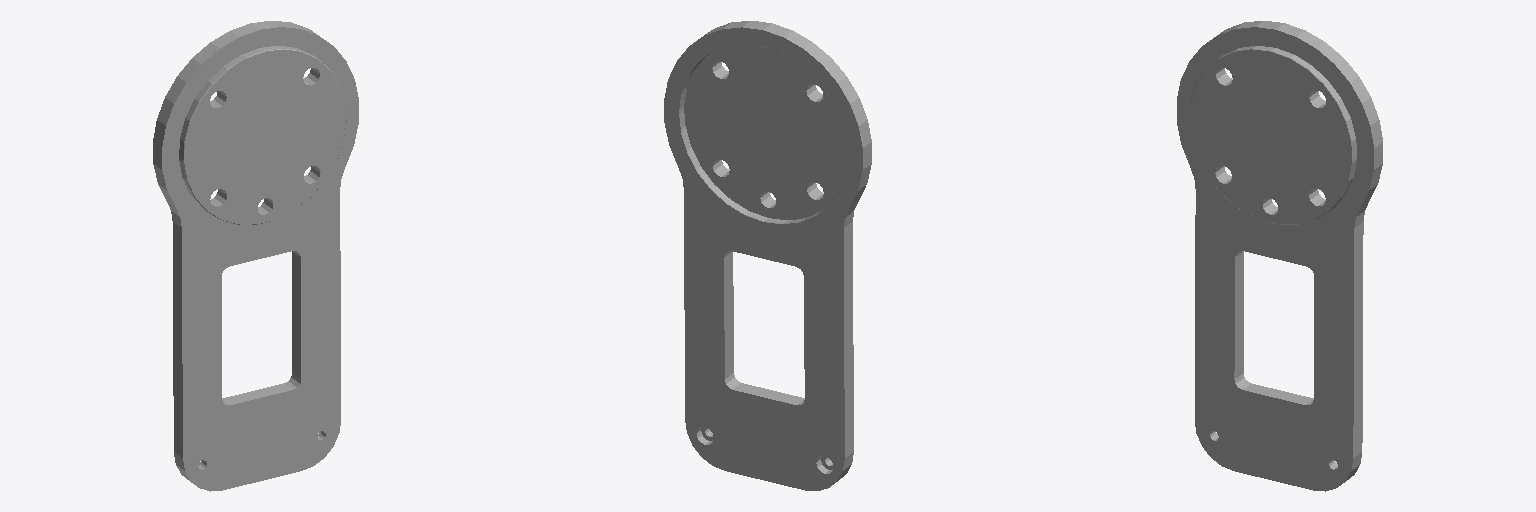
URDF robot description (summit_xl):
<?xml version='1.0' encoding='utf8'?>
<robot name="summit_xl">
    
  
    
  <link name="rg2_base_link">
    <inertial>
      <origin rpy="0 0 0.006" xyz="-0.00033928396113482284 0.0001550803374992693 0.06397335096404132"/>
      <mass value="0.7151802197889529"/>
      <inertia ixx="0.001268" ixy="0.0" ixz="-1.2e-05" iyy="0.001154" iyz="3e-06" izz="0.000357"/>
    </inertial>
    <visual>
      <origin rpy="0 0 0.006" xyz="0 0 0"/>
      <geometry>
        <mesh filename="meshes/rg2/base_link.stl" scale="0.001 0.001 0.001"/>
      </geometry>
      <material name="LightGrey">
        <color rgba="0.7 0.7 0.7 1.0"/>
      </material>
    </visual>
    <collision>
      <origin rpy="0 0 0.006" xyz="0 0 0"/>
      <geometry>
        <mesh filename="meshes/rg2/base_link.stl" scale="0.001 0.001 0.001"/>
      </geometry>
    </collision>
  </link>
  <joint name="rg6_gripper_joint" type="fixed">
    <origin xyz="0 0 0.006" rpy="0 0 1.5708" />
    <parent link="ur5_tool0"/>
    <child link="rg2_base_link" />
  </joint>

  <link name="left_outer_link_1">
    <inertial>
      <origin rpy="0 0 0" xyz="0.009999996523330909 0.0017814726549052681 0.012228209292930586"/>
      <mass value="0.03836739327168093"/>
      <inertia ixx="1.4e-05" ixy="0.0" ixz="0.0" iyy="1.4e-05" iyz="-0.0" izz="3e-06"/>
    </inertial>
    <visual>
      <origin rpy="0 0 0" xyz="0.0103 -0.01705 -0.12275"/>
      <geometry>
        <mesh filename="meshes/rg2/left_outer_link_1.stl" scale="0.001 0.001 0.001"/>
      </geometry>
      <material name="LightGrey">
        <color rgba="0.7 0.7 0.7 1.0"/>
      </material>
    </visual>
    <collision>
      <origin rpy="0 0 0" xyz="0.0103 -0.01705 -0.12275"/>
      <geometry>
        <mesh filename="meshes/rg2/left_outer_link_1.stl" scale="0.001 0.001 0.001"/>
      </geometry>
    </collision>
  </link>

  <link name="left_finger_link_1">
    <inertial>
      <origin rpy="0 0 0" xyz="0.010012780774690653 -0.010687647568749598 0.027402616106703998"/>
      <mass value="0.02483517715757534"/>
      <inertia ixx="7e-06" ixy="-0.0" ixz="0.0" iyy="6e-06" iyz="2e-06" izz="1e-06"/>
    </inertial>
    <visual>
      <origin rpy="0 0 0" xyz="0.0103 -0.01902 -0.177715"/>
      <geometry>
        <mesh filename="meshes/rg2/left_finger_link_1.stl" scale="0.001 0.001 0.001"/>
      </geometry>
      <material name="Black">
        <color rgba="0.0 0.0 0.0 1.0"/>
      </material>
    </visual>
    <collision>
      <origin rpy="0 0 0" xyz="0.0103 -0.01902 -0.177715"/>
      <geometry>
        <mesh filename="meshes/rg2/left_finger_link_1.stl" scale="0.001 0.001 0.001"/>
      </geometry>
    </collision>
  </link>

  <link name="left_inner_link_1">
    <inertial>
      <origin rpy="0 0 0" xyz="0.010005296596915006 -0.0016937268392717038 -0.03516232888579532"/>
      <mass value="0.012641568013611078"/>
      <inertia ixx="5e-06" ixy="0.0" ixz="-0.0" iyy="6e-06" iyz="-0.0" izz="1e-06"/>
    </inertial>
    <visual>
      <origin rpy="0 0 0" xyz="0.0103 -0.00952 -0.194215"/>
      <geometry>
        <mesh filename="meshes/rg2/left_inner_link_1.stl" scale="0.001 0.001 0.001"/>
      </geometry>
      <material name="Black">
        <color rgba="0.0 0.0 0.0 1.0"/>
      </material>
    </visual>
    <collision>
      <origin rpy="0 0 0" xyz="0.0103 -0.00952 -0.194215"/>
      <geometry>
        <mesh filename="meshes/rg2/left_inner_link_1.stl" scale="0.001 0.001 0.001"/>
      </geometry>
    </collision>
  </link>

  <link name="right_outer_link_1">
    <inertial>
      <origin rpy="0 0 0" xyz="0.010000003486636795 -0.0017814726548893677 0.012228209293019432"/>
      <mass value="0.03836739327185006"/>
      <inertia ixx="1.4e-05" ixy="0.0" ixz="-0.0" iyy="1.4e-05" iyz="0.0" izz="3e-06"/>
    </inertial>
    <visual>
      <origin rpy="0 0 0" xyz="0.0103 0.01695 -0.12275"/>
      <geometry>
        <mesh filename="meshes/rg2/right_outer_link_1.stl" scale="0.001 0.001 0.001"/>
      </geometry>
      <material name="LightGrey">
        <color rgba="0.7 0.7 0.7 1.0"/>
      </material>
    </visual>
    <collision>
      <origin rpy="0 0 0" xyz="0.0103 0.01695 -0.12275"/>
      <geometry>
        <mesh filename="meshes/rg2/right_outer_link_1.stl" scale="0.001 0.001 0.001"/>
      </geometry>
    </collision>
  </link>

  <link name="right_finger_link_1">
    <inertial>
      <origin rpy="0 0 0" xyz="0.009987219235276384 0.010687647568778226 0.02740261610670347"/>
      <mass value="0.02483517715757534"/>
      <inertia ixx="7e-06" ixy="-0.0" ixz="-0.0" iyy="6e-06" iyz="-2e-06" izz="1e-06"/>
    </inertial>
    <visual>
      <origin rpy="0 0 0" xyz="0.0103 0.01892 -0.177715"/>
      <geometry>
        <mesh filename="meshes/rg2/right_finger_link_1.stl" scale="0.001 0.001 0.001"/>
      </geometry>
      <material name="Black">
        <color rgba="0.0 0.0 0.0 1.0"/>
      </material>
    </visual>
    <collision>
      <origin rpy="0 0 0" xyz="0.0103 0.01892 -0.177715"/>
      <geometry>
        <mesh filename="meshes/rg2/right_finger_link_1.stl" scale="0.001 0.001 0.001"/>
      </geometry>
    </collision>
  </link>

  <link name="right_inner_link_1">
    <inertial>
      <origin rpy="0 0 0" xyz="0.00999470341305246 0.001693726839305438 -0.035162328885795485"/>
      <mass value="0.012641568013611078"/>
      <inertia ixx="5e-06" ixy="0.0" ixz="0.0" iyy="6e-06" iyz="0.0" izz="1e-06"/>
    </inertial>
    <visual>
      <origin rpy="0 0 0" xyz="0.0103 0.00942 -0.194215"/>
      <geometry>
        <mesh filename="meshes/rg2/right_inner_link_1.stl" scale="0.001 0.001 0.001"/>
      </geometry>
      <material name="Black">
        <color rgba="0.0 0.0 0.0 1.0"/>
      </material>
    </visual>
    <collision>
      <origin rpy="0 0 0" xyz="0.0103 0.00942 -0.194215"/>
      <geometry>
        <mesh filename="meshes/rg2/right_inner_link_1.stl" scale="0.001 0.001 0.001"/>
      </geometry>
    </collision>
  </link>


  <joint name="Rev33" type="continuous">
    <origin rpy="0 0 0" xyz="-0.0103 0.01705 0.12275"/>
    <parent link="rg2_base_link"/>
    <child link="left_outer_link_1"/>
    <axis xyz="1.0 0.0 0.0"/>
    <mimic joint="Rev28" multiplier="-1.0" offset="0"/>
  </joint>

  <joint name="Rev29" type="continuous">
    <origin rpy="0 0 0" xyz="0.0 0.00197 0.054965"/>
    <parent link="left_outer_link_1"/>
    <child link="left_finger_link_1"/>
    <axis xyz="-1.0 -0.0 -0.0"/>
    <mimic joint="Rev28" multiplier="-1.0" offset="0"/>
  </joint>

  <joint name="Rev30" type="continuous">
    <origin rpy="0 0 0" xyz="0.0 -0.0095 0.0165"/>
    <parent link="left_finger_link_1"/>
    <child link="left_inner_link_1"/>
    <axis xyz="-1.0 -0.0 -0.0"/>
    <mimic joint="Rev28" multiplier="1.0" offset="0"/>
  </joint>

  <joint name="Rev28" type="revolute">
    <origin rpy="0 0 0" xyz="-0.0103 -0.01695 0.12275"/>
    <parent link="rg2_base_link"/>
    <child link="right_outer_link_1"/>
    <axis xyz="1.0 0.0 0.0"/>
    <limit effort="100" lower="0.0" upper="1.343904" velocity="100"/>
  </joint>

  <joint name="Rev34" type="continuous">
    <origin rpy="0 0 0" xyz="0.0 -0.00197 0.054965"/>
    <parent link="right_outer_link_1"/>
    <child link="right_finger_link_1"/>
    <axis xyz="-1.0 -0.0 -0.0"/>
    <mimic joint="Rev28" multiplier="1.0" offset="0"/>
  </joint>

  <joint name="Rev35" type="continuous">
    <origin rpy="0 0 0" xyz="0.0 0.0095 0.0165"/>
    <parent link="right_finger_link_1"/>
    <child link="right_inner_link_1"/>
    <axis xyz="-1.0 0.0 -0.0"/>
    <mimic joint="Rev28" multiplier="-1.0" offset="0"/>
  </joint>


  <joint name="camera_joint" type="fixed">
    <origin rpy="1.5708 -1.5708 0" xyz="0 -0.102 0.014" />
    <parent link="camera_bracket" />
    <child link="camera_bottom_screw_frame" />
  </joint>
  <link name="camera_bottom_screw_frame" />
  <joint name="camera_link_joint" type="fixed">
    <origin rpy="0 0 0" xyz="0.0106 0.0175 0.0125" />
    <parent link="camera_bottom_screw_frame" />
    <child link="camera_link" />
  </joint>
  <link name="camera_link">
    <visual>
      <origin rpy="1.57079632679 0 1.57079632679" xyz="0.0043 -0.0175 0" />
      <geometry>
        <mesh filename="meshes/include/d435.dae" />
      </geometry>
      <material name="LightGrey">
        <color rgba="0.7 0.7 0.7 1.0"/>
      </material>
    </visual>
    <collision>
      <origin rpy="1.57079632679 0 1.57079632679" xyz="0.0043 -0.0175 0" />
      <geometry>
        <mesh filename="meshes/include/d435.dae" />
      </geometry>
    </collision>
    <inertial>
      <mass value="0.564" />
      <origin xyz="0 0 0" />
      <inertia ixx="0.003881243" ixy="0.0" ixz="0.0" iyy="0.000498940" iyz="0.0" izz="0.003879257" />
    </inertial>
  </link>
  
  
  
  <joint name="camera_depth_joint" type="fixed">
    <origin rpy="0 0 0" xyz="0 0 0" />
    <parent link="camera_link" />
    <child link="camera_depth_frame" />
  </joint>
  <link name="camera_depth_frame" />
  <joint name="camera_depth_optical_joint" type="fixed">
    <origin rpy="-1.57079632679 0 -1.57079632679" xyz="0 0 0" />
    <parent link="camera_depth_frame" />
    <child link="camera_depth_optical_frame" />
  </joint>
  <link name="camera_depth_optical_frame" />
  
  <joint name="camera_infra1_joint" type="fixed">
    <origin rpy="0 0 0" xyz="0 0.0 0" />
    <parent link="camera_link" />
    <child link="camera_infra1_frame" />
  </joint>
  <link name="camera_infra1_frame" />
  <joint name="camera_infra1_optical_joint" type="fixed">
    <origin rpy="-1.57079632679 0 -1.57079632679" xyz="0 0 0" />
    <parent link="camera_infra1_frame" />
    <child link="camera_infra1_optical_frame" />
  </joint>
  <link name="camera_infra1_optical_frame" />
  
  <joint name="camera_infra2_joint" type="fixed">
    <origin rpy="0 0 0" xyz="0 -0.05 0" />
    <parent link="camera_link" />
    <child link="camera_infra2_frame" />
  </joint>
  <link name="camera_infra2_frame" />
  <joint name="camera_infra2_optical_joint" type="fixed">
    <origin rpy="-1.57079632679 0 -1.57079632679" xyz="0 0 0" />
    <parent link="camera_infra2_frame" />
    <child link="camera_infra2_optical_frame" />
  </joint>
  <link name="camera_infra2_optical_frame" />
  
  <joint name="camera_color_joint" type="fixed">
    <origin rpy="0 0 0" xyz="0 0.015 0" />
    <parent link="camera_link" />
    <child link="camera_color_frame" />
  </joint>
  <link name="camera_color_frame" />
  <joint name="camera_color_optical_joint" type="fixed">
    <origin rpy="-1.57079632679 0 -1.57079632679" xyz="0 0 0" />
    <parent link="camera_color_frame" />
    <child link="camera_color_optical_frame" />
  </joint>
  <link name="camera_color_optical_frame" />
  
  
  
  
  <link name="ur5_base_link">
    <visual>
      <origin rpy="0 0 3.14159265359" xyz="0 0 0" />
      <geometry>
        <mesh filename="meshes/ur5/visual/base.dae" />
      </geometry>
      <material name="LightGrey">
        <color rgba="0.7 0.7 0.7 1.0" />
      </material>
    </visual>
    <collision>
      <origin rpy="0 0 3.14159265359" xyz="0 0 0" />
      <geometry>
        <mesh filename="meshes/ur5/collision/base.stl" />
      </geometry>
    </collision>
    <inertial>
      <mass value="4.0" />
      <origin rpy="0 0 0" xyz="0.0 0.0 0.0" />
      <inertia ixx="0.00443333156" ixy="0.0" ixz="0.0" iyy="0.00443333156" iyz="0.0" izz="0.0072" />
    </inertial>
  </link>
  <joint name="ur5_shoulder_pan_joint" type="revolute">
    <parent link="ur5_base_link" />
    <child link="ur5_shoulder_link" />
    <origin rpy="0 0 3.14161541291" xyz="0 0 0.0891466430647" />
    <axis xyz="0 0 1" />
    <limit effort="150.0" lower="-6.28318530718" upper="6.28318530718" velocity="3.15" />
    <dynamics damping="0.0" friction="0.0" />
  </joint>
  <link name="ur5_shoulder_link">
    <visual>
      <origin rpy="0 0 3.14159265359" xyz="0 0 0" />
      <geometry>
        <mesh filename="meshes/ur5/visual/shoulder.dae" />
      </geometry>
      <material name="UR-Blue">
        <color rgba="0.376 0.576 0.674 1.0"/>
      </material>
    </visual>
    <collision>
      <origin rpy="0 0 3.14159265359" xyz="0 0 0" />
      <geometry>
        <mesh filename="meshes/ur5/collision/shoulder.stl" />
      </geometry>
    </collision>
    <inertial>
      <mass value="3.7" />
      <origin rpy="0 0 0" xyz="0.0 0.0 0.0" />
      <inertia ixx="0.0149723523444" ixy="0.0" ixz="0.0" iyy="0.0149723523444" iyz="0.0" izz="0.01040625" />
    </inertial>
  </link>
  <joint name="ur5_shoulder_lift_joint" type="revolute">
    <parent link="ur5_shoulder_link" />
    <child link="ur5_upper_arm_link" />
    <origin rpy="1.57029006034 0 6.28004107998e-05" xyz="0.000146634111712 0 0" />
    <axis xyz="0 0 1" />
    <limit effort="150.0" lower="-6.28318530718" upper="6.28318530718" velocity="3.15" />
    <dynamics damping="0.0" friction="0.0" />
  </joint>
  <link name="ur5_upper_arm_link">
    <visual>
      <origin rpy="1.57079632679 0 -1.57079632679" xyz="0 0 0.136" />
      <geometry>
        <mesh filename="meshes/ur5/visual/upperarm.dae" />
      </geometry>
      <material name="LightGrey">
        <color rgba="0.7 0.7 0.7 1.0" />
      </material>
    </visual>
    <collision>
      <origin rpy="1.57079632679 0 -1.57079632679" xyz="0 0 0.136" />
      <geometry>
        <mesh filename="meshes/ur5/collision/upperarm.stl" />
      </geometry>
    </collision>
    <inertial>
      <mass value="8.393" />
      <origin rpy="0 1.57079632679 0" xyz="-0.212595837271 0.0 0.136" />
      <inertia ixx="0.133999758827" ixy="0.0" ixz="0.0" iyy="0.133999758827" iyz="0.0" izz="0.0151074" />
    </inertial>
  </link>
  <joint name="ur5_elbow_joint" type="revolute">
    <parent link="ur5_upper_arm_link" />
    <child link="ur5_forearm_link" />
    <origin rpy="0.000309149033959 0.00195055847639 4.0824780764e-06" xyz="-0.425191674542 0 0" />
    <axis xyz="0 0 1" />
    <limit effort="150.0" lower="-3.14159265359" upper="3.14159265359" velocity="3.15" />
    <dynamics damping="0.0" friction="0.0" />
  </joint>
  <link name="ur5_forearm_link">
    <visual>
      <origin rpy="1.57079632679 0 -1.57079632679" xyz="0 0 0.0165" />
      <geometry>
        <mesh filename="meshes/ur5/visual/forearm.dae" />
      </geometry>
      <material name="LightGrey">
        <color rgba="0.7 0.7 0.7 1.0" />
      </material>
    </visual>
    <collision>
      <origin rpy="1.57079632679 0 -1.57079632679" xyz="0 0 0.0165" />
      <geometry>
        <mesh filename="meshes/ur5/collision/forearm.stl" />
      </geometry>
    </collision>
    <inertial>
      <mass value="2.275" />
      <origin rpy="0 1.57079632679 0" xyz="-0.212595837271 0.0 0.0165" />
      <inertia ixx="0.031152672327" ixy="0.0" ixz="0.0" iyy="0.031152672327" iyz="0.0" izz="0.004095" />
    </inertial>
  </link>
  <joint name="ur5_wrist_1_joint" type="revolute">
    <parent link="ur5_forearm_link" />
    <child link="ur5_wrist_1_link" />
    <origin rpy="0.00946036710336 0.000178832082866 8.30825091703e-06" xyz="-0.391818649157 -0.00104589148922 0.110551765664" />
    <axis xyz="0 0 1" />
    <limit effort="28.0" lower="-6.28318530718" upper="6.28318530718" velocity="3.2" />
    <dynamics damping="0.0" friction="0.0" />
  </joint>
  <link name="ur5_wrist_1_link">
    <visual>
      <origin rpy="1.57079632679 0 0" xyz="0 0 -0.093" />
      <geometry>
        <mesh filename="meshes/ur5/visual/wrist1.dae" />
      </geometry>
      <material name="UR-Blue">
        <color rgba="0.376 0.576 0.674 1.0"/>
      </material>
    </visual>
    <collision>
      <origin rpy="1.57079632679 0 0" xyz="0 0 -0.093" />
      <geometry>
        <mesh filename="meshes/ur5/collision/wrist1.stl" />
      </geometry>
    </collision>
    <inertial>
      <mass value="1.219" />
      <origin rpy="0 0 0" xyz="0.0 0.0 0.0" />
      <inertia ixx="0.00262465340213" ixy="0.0" ixz="0.0" iyy="0.00262465340213" iyz="0.0" izz="0.0034284375" />
    </inertial>
  </link>
  <joint name="ur5_wrist_2_joint" type="revolute">
    <parent link="ur5_wrist_1_link" />
    <child link="ur5_wrist_2_link" />
    <origin rpy="1.56994050176 0 -5.70603441434e-05" xyz="-9.99516732222e-06 -0.0946702251887 8.10211688195e-05" />
    <axis xyz="0 0 1" />
    <limit effort="28.0" lower="-6.28318530718" upper="6.28318530718" velocity="3.2" />
    <dynamics damping="0.0" friction="0.0" />
  </joint>
  <link name="ur5_wrist_2_link">
    <visual>
      <origin rpy="0 0 0" xyz="0 0 -0.095" />
      <geometry>
        <mesh filename="meshes/ur5/visual/wrist2.dae" />
      </geometry>
      <material name="DarkGray">
        <color rgba="0.5 0.5 0.5 1.0"/>
      </material>
    </visual>
    <collision>
      <origin rpy="0 0 0" xyz="0 0 -0.095" />
      <geometry>
        <mesh filename="meshes/ur5/collision/wrist2.stl" />
      </geometry>
    </collision>
    <inertial>
      <mass value="1.219" />
      <origin rpy="0 0 0" xyz="0.0 0.0 0.0" />
      <inertia ixx="0.00178798457695" ixy="0.0" ixz="0.0" iyy="0.00178798457695" iyz="0.0" izz="0.0021942" />
    </inertial>
  </link>
  <joint name="ur5_wrist_3_joint" type="revolute">
    <parent link="ur5_wrist_2_link" />
    <child link="ur5_wrist_3_link" />
    <origin rpy="1.57124983379 3.14159265359 3.14154158585" xyz="6.79436941657e-05 0.0824691928246 3.74003585712e-05" />
    <axis xyz="0 0 1" />
    <limit effort="28.0" lower="-6.28318530718" upper="6.28318530718" velocity="3.2" />
    <dynamics damping="0.0" friction="0.0" />
  </joint>
  <link name="ur5_wrist_3_link">
    <visual>
      <origin rpy="1.57079632679 0 0" xyz="0 0 -0.0818" />
      <geometry>
        <mesh filename="meshes/ur5/visual/wrist3.dae" />
      </geometry>
      <material name="LightGrey">
        <color rgba="0.7 0.7 0.7 1.0" />
      </material>
    </visual>
    <collision>
      <origin rpy="1.57079632679 0 0" xyz="0 0 -0.0823" />
      <geometry>
        <mesh filename="meshes/ur5/collision/wrist3.stl" />
      </geometry>
    </collision>
    <inertial>
      <mass value="0.1879" />
      <origin rpy="0 0 0" xyz="0.0 0.0 -0.01525" />
      <inertia ixx="8.06247260834e-05" ixy="0.0" ixz="0.0" iyy="8.06247260834e-05" iyz="0.0" izz="0.0001321171875" />
    </inertial>
  </link>
  <joint name="ur5_ee_fixed_joint" type="fixed">
    <parent link="ur5_wrist_3_link" />
    <child link="ur5_ee_link" />
    <origin rpy="0.0 -1.57079632679 1.57079632679" xyz="0.0 0.0 0.0" />
  </joint>
  <link name="ur5_ee_link">
    <collision>
      <geometry>
        <box size="0.01 0.01 0.01" />
      </geometry>
      <origin rpy="0 0 0" xyz="-0.01 0 0" />
    </collision>
  </link>
  <joint name="ur5_wrist_3_passive_joint" type="fixed">
    <origin rpy="0 0 0" xyz="0 0 0" />
    <parent link="ur5_wrist_3_link" />
    <child link="ur5_tool0" />
  </joint>
  
  <link name="ur5_base" />
  <joint name="ur5_base_link-base_fixed_joint" type="fixed">
    
    <origin rpy="0 0 -3.14159265359" xyz="0 0 0" />
    <parent link="ur5_base_link" />
    <child link="ur5_base" />
  </joint>
  
  <link name="ur5_tool0" />
  <link name="camera_bracket">
    <visual>
      <origin rpy="1.5708 1.5708 0" xyz="0 0 0" />
      <geometry>
        <mesh filename="meshes/include/camera_bracket.STL" />
      </geometry>
      <material name="LightGrey">
        <color rgba="0.7 0.7 0.7 1.0"/>
      </material>
    </visual>
    <collision>
      <origin rpy="1.5708 1.5708 0" xyz="0 0 0" />
      <geometry>
        <mesh filename="meshes/include/camera_bracket.STL" />
      </geometry>
    </collision>
  </link>
  <joint name="camera_bracket_joint" type="fixed">
    <parent link="ur5_tool0" />
    <child link="camera_bracket" />
    <origin rpy="0 0 0" xyz="0 0 0.006" />
  </joint>
  
  <link name="graps_link" />
  <joint name="graps_link_joint" type="fixed">
    <parent link="ur5_tool0" />
    <child link="graps_link" />
    <origin rpy="0 0 0" xyz="0 0 0.25" />
  </joint>
  
<!--################################################
  ########          connect model                #####
  ####################################################-->

  <link name="world"/>
  <!-- connect gripper to arm -->

  <!-- connect arm to world -->
  <joint name="world_arm_joint" type="fixed">
    <parent link="world"/>
    <child link="ur5_base_link"/>
    <origin rpy="0.0 0.0 0" xyz="0 0 0"/>
  </joint>
  
  
  
  
</robot>

--- What the picture shows (computed from the rendered views, not written in the file) ---
Views: 3 orthographic renders of the robot side by side, from view 1: azimuth 30°, elevation 25°; view 2: azimuth 150°, elevation 25°; view 3: azimuth 330°, elevation 25°.
Robot: summit_xl — 30 links, 29 joints (7 revolute, 5 continuous, 17 fixed); root link world; default pose: all joints at 0.
Visible links, largest first — view 1: camera_bracket; view 2: camera_bracket; view 3: camera_bracket.
Link boxes in pixels (x1=…): camera_bracket: x1=153, y1=21, x2=358, y2=491; camera_bracket: x1=664, y1=21, x2=871, y2=490; camera_bracket: x1=1177, y1=21, x2=1382, y2=491.
Bounding box of the posed robot: 0.0747 × 0.0096 × 0.1625 m (x, y, z).
Meshes: 16 distinct files referenced, 1 mesh visuals loaded (1 binary STL); not drawn: 15 (reference not matched to a file when rendering).